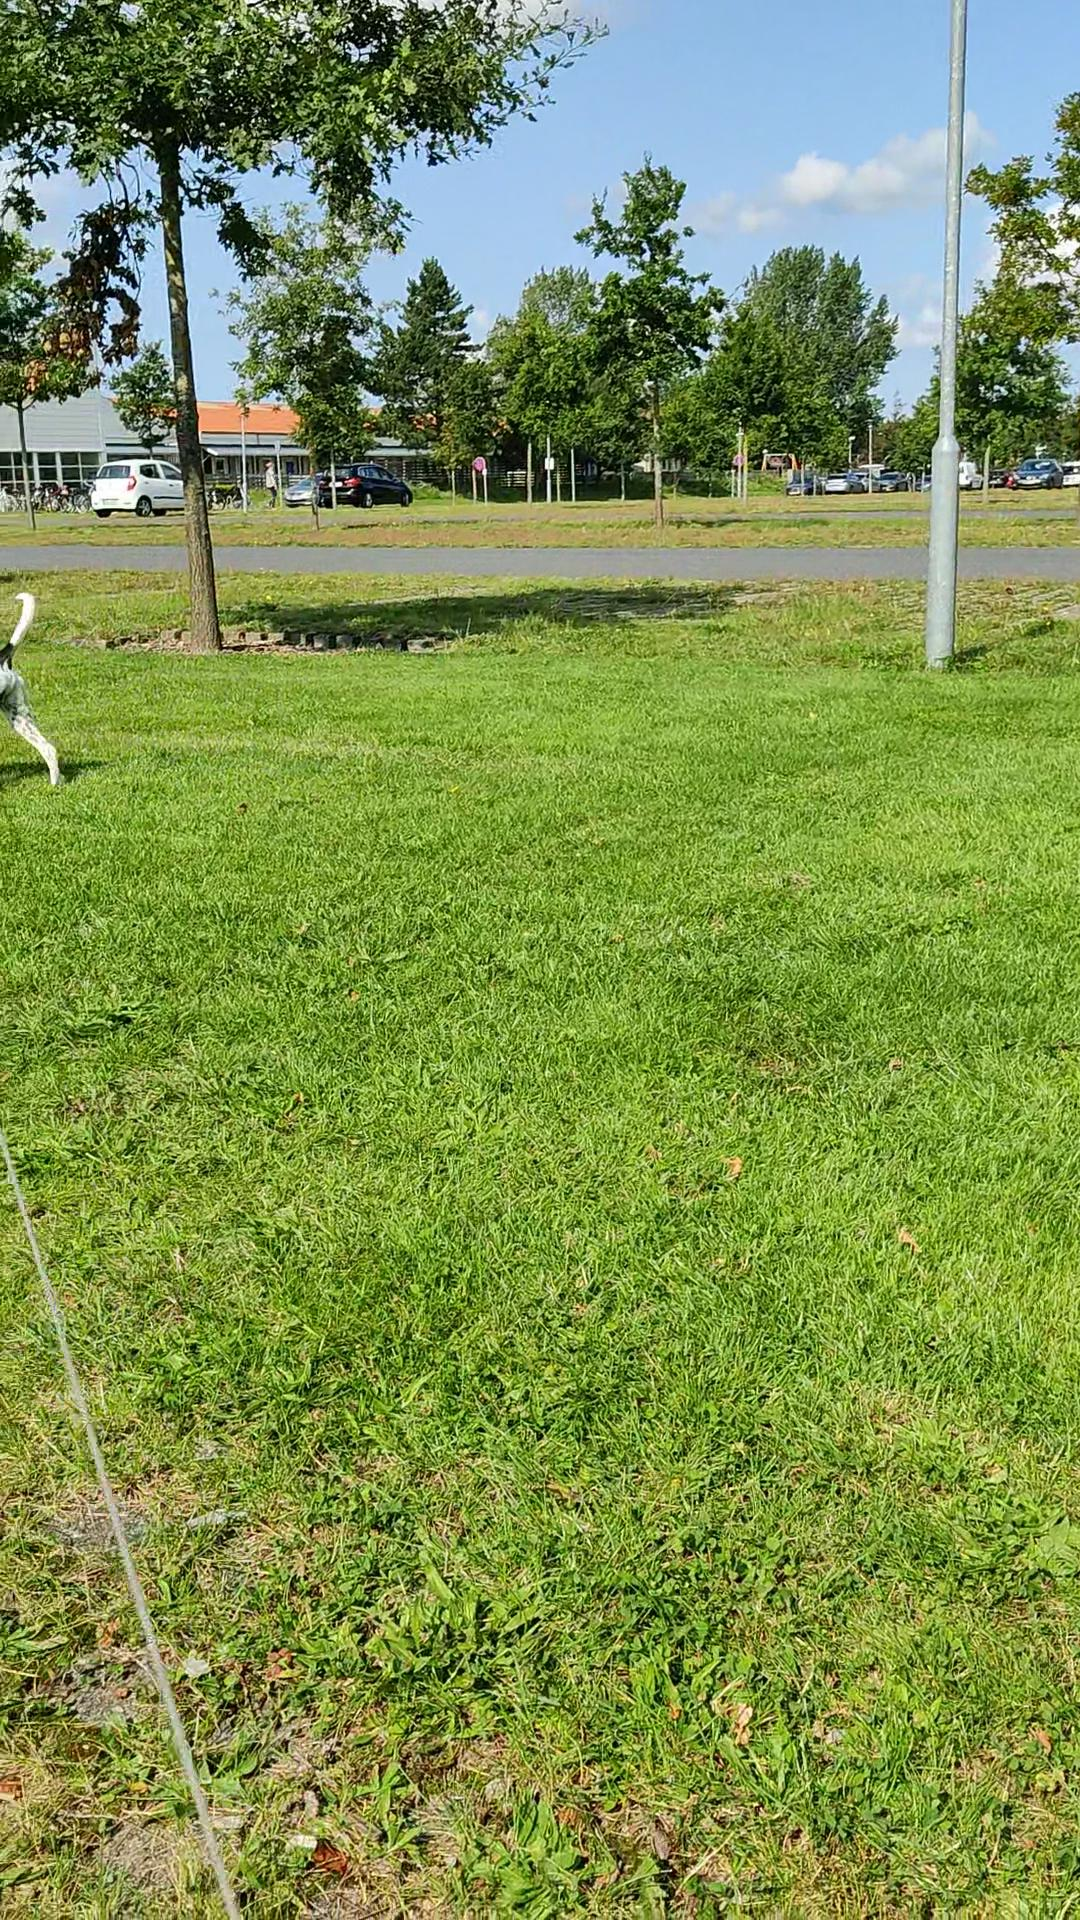Dog: (0, 582, 66, 806)
